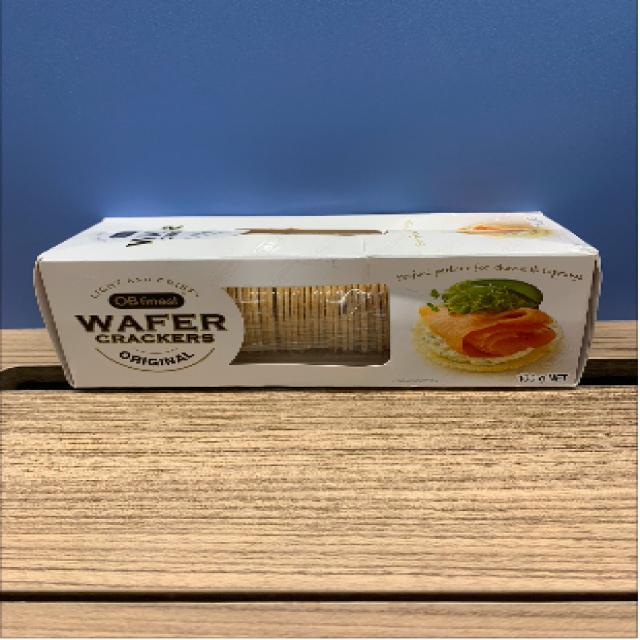object_name: (34, 223, 594, 387)
